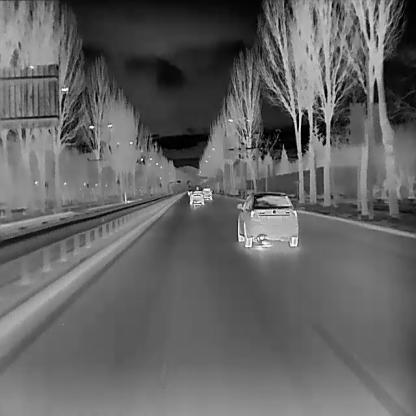car: (235, 189, 299, 247), (188, 188, 204, 204), (202, 186, 212, 199), (186, 188, 191, 194), (195, 184, 198, 188)
